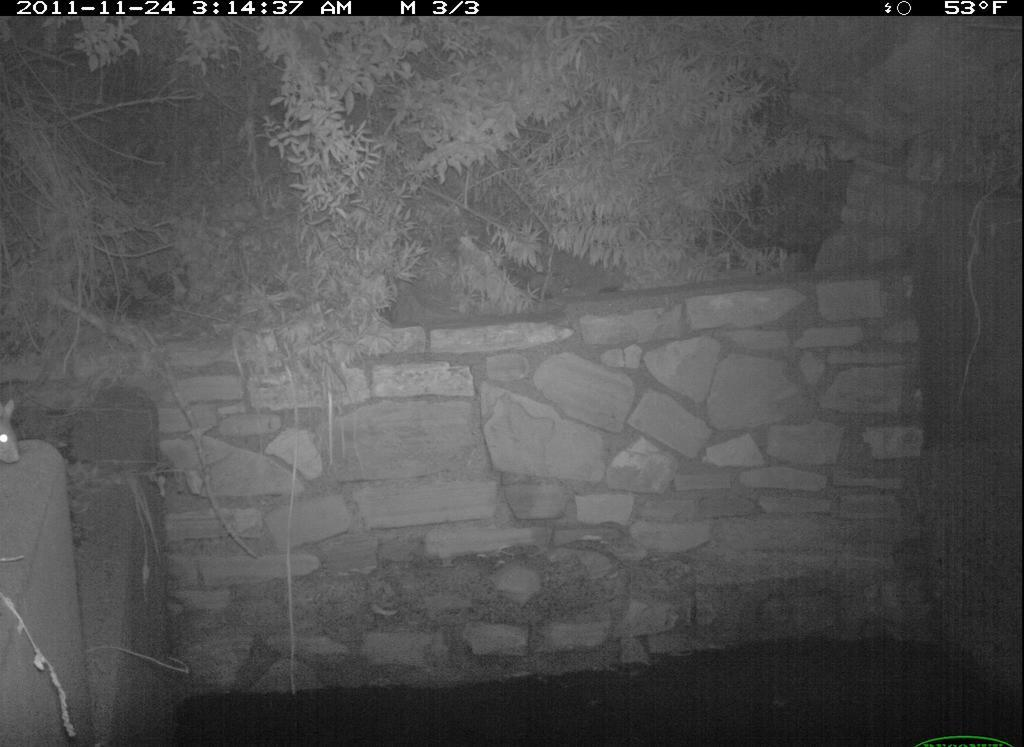rodent: (1, 392, 30, 473)
